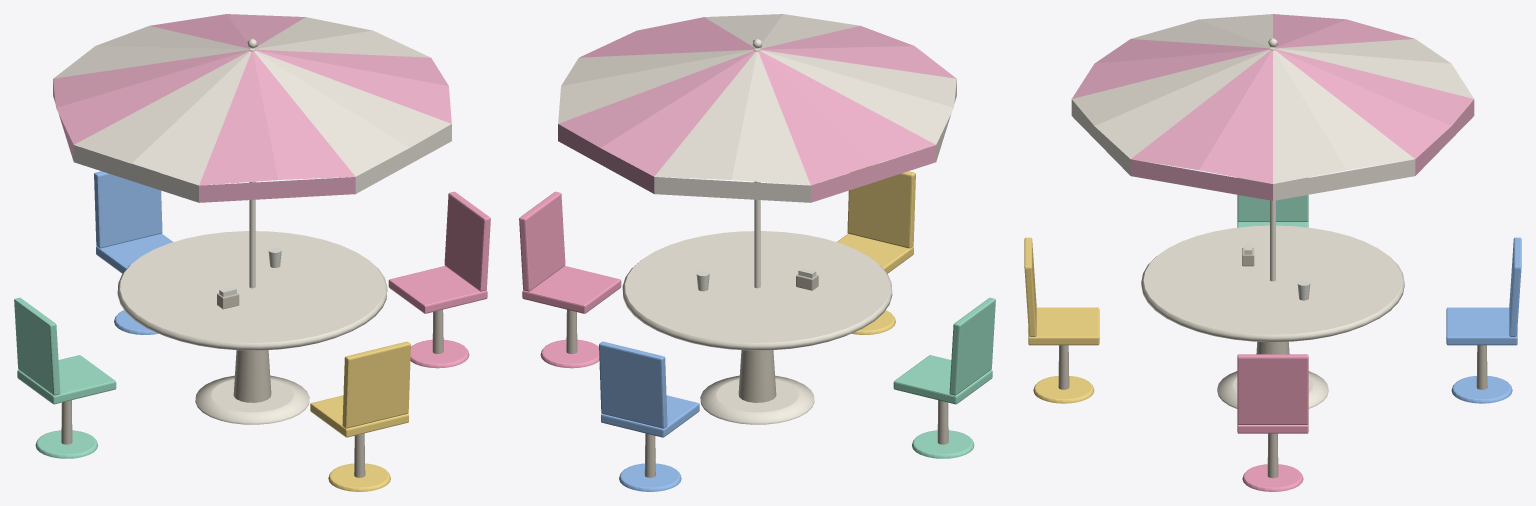
Rendered from table_and_chairs.glb.
3 renders of one model, left to right at view 1: azimuth 30°, elevation 25°; view 2: azimuth 150°, elevation 25°; view 3: azimuth 270°, elevation 25°, orthographic. The views are drawn at different scales.
Visible parts, largest first — view 1: Parasol_White, Parasol_Pink, Plastic_White, Plastic_Yellow, Plastic_Pink, Plastic_Mint, Plastic_Blue, Plastic_Grey; view 2: Parasol_Pink, Parasol_White, Plastic_White, Plastic_Blue, Plastic_Pink, Plastic_Mint, Plastic_Yellow, Plastic_Grey; view 3: Parasol_Pink, Parasol_White, Plastic_White, Plastic_Pink, Plastic_Blue, Plastic_Yellow, Plastic_Grey, Plastic_Mint.
Part boxes in pixels (x1,y1,x2,y2): Parasol_White: (53,17,451,202); Parasol_Pink: (53,14,451,202); Plastic_White: (117,39,387,424); Plastic_Yellow: (310,341,410,491); Plastic_Pink: (388,191,490,368); Plastic_Mint: (14,297,116,458); Plastic_Blue: (94,163,172,334); Plastic_Grey: (61,293,443,477); Parasol_Pink: (558,17,956,202); Parasol_White: (558,14,956,202); Plastic_White: (622,39,892,424); Plastic_Blue: (599,341,699,491); Plastic_Pink: (519,191,621,368); Plastic_Mint: (893,297,995,458); Plastic_Yellow: (837,163,915,334); Plastic_Grey: (566,274,948,477); Parasol_Pink: (1072,14,1474,200); Parasol_White: (1071,14,1473,200); Plastic_White: (1141,38,1404,408); Plastic_Pink: (1237,354,1308,491); Plastic_Blue: (1446,237,1521,403); Plastic_Yellow: (1024,237,1099,403); Plastic_Grey: (1058,247,1487,478); Plastic_Mint: (1237,177,1308,227).
Size of the model in its own units: 3.21 by 2.52 by 3.21.
